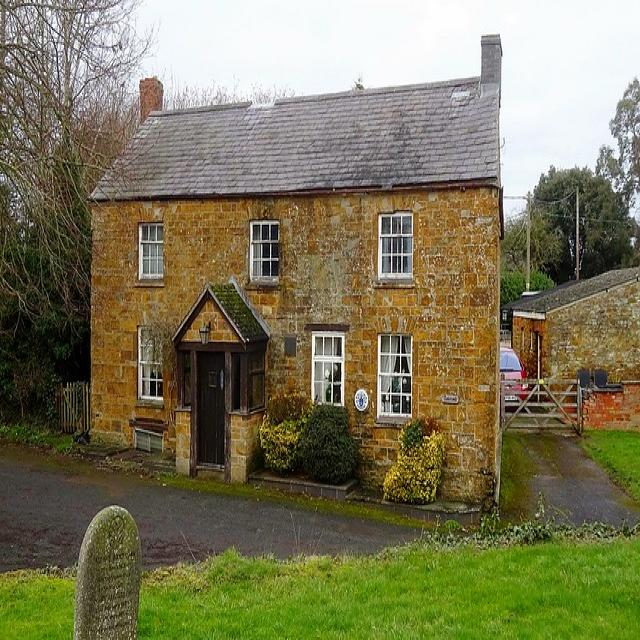Normal_building: (84, 59, 506, 517)
